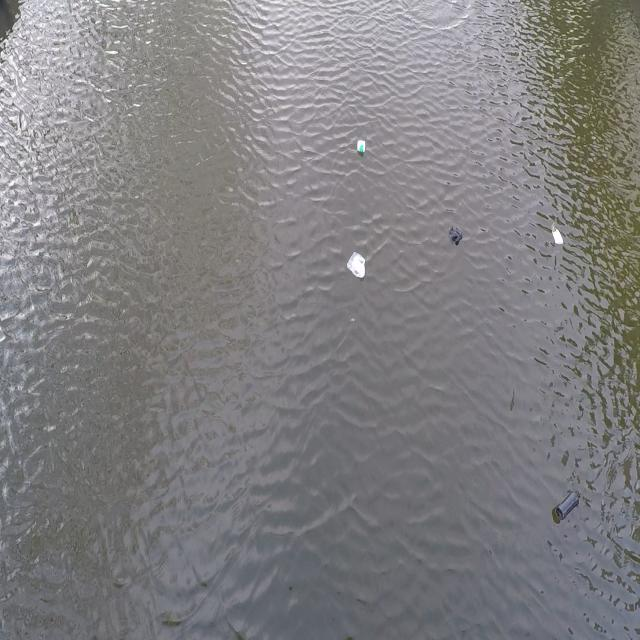Bouteille plastique: (554, 488, 582, 523)
Non plastique: (551, 223, 566, 251)
